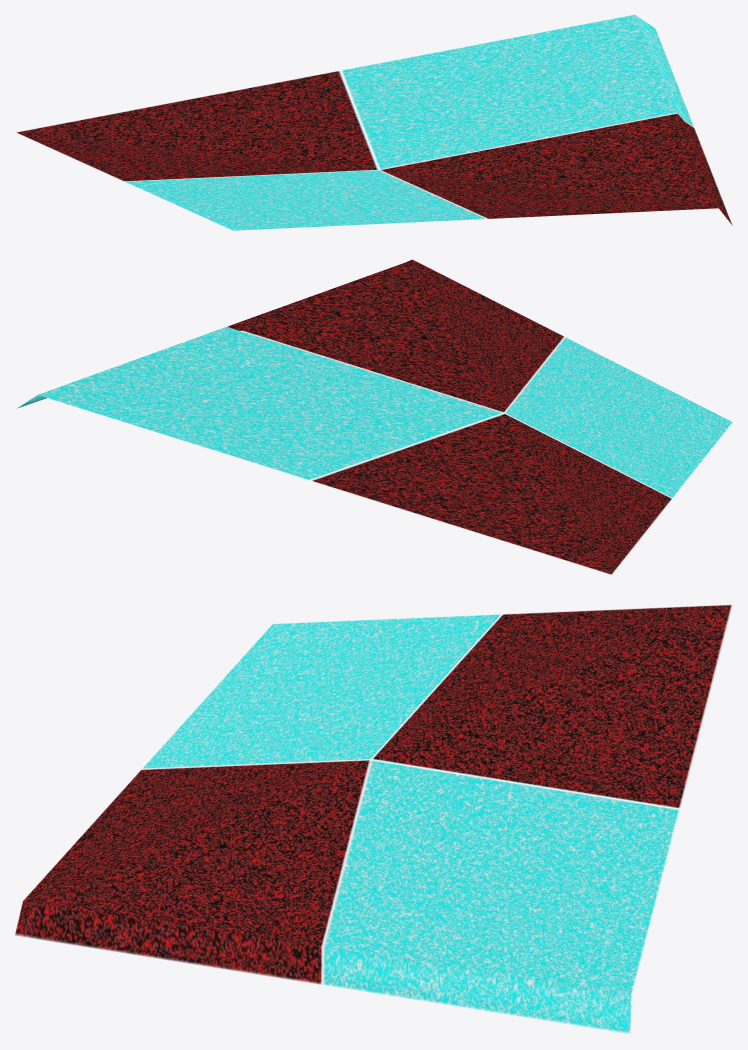
3 views of the same model, one above another, from view 1: azimuth 30°, elevation 25°; view 2: azimuth 150°, elevation 25°; view 3: azimuth 270°, elevation 25° (orthographic). The views are drawn at different scales.
Visible parts, largest first — view 1: SM_VFX_GF_River04_LOD0; view 2: SM_VFX_GF_River04_LOD0; view 3: SM_VFX_GF_River04_LOD0.
Part boxes in pixels (bbox=[...]): SM_VFX_GF_River04_LOD0: bbox=[16, 14, 732, 230]; SM_VFX_GF_River04_LOD0: bbox=[17, 259, 732, 574]; SM_VFX_GF_River04_LOD0: bbox=[15, 605, 731, 1033].
Bounding box in the file's own units: 29.81 × 1.33 × 22.22.
Materials: 1 (1 with a texture image).
